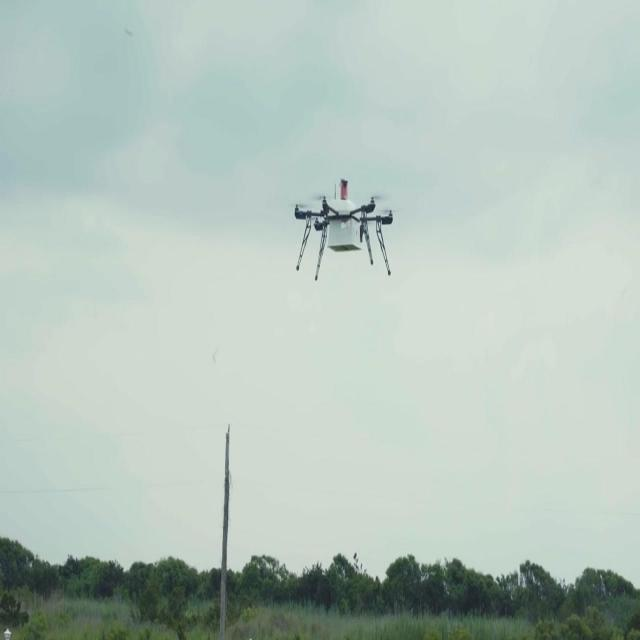UAV: (288, 179, 397, 281)
